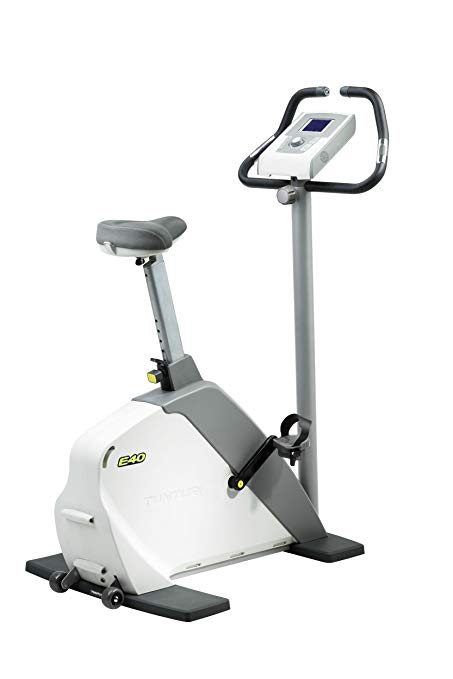gym_bike: (28, 81, 395, 628)
